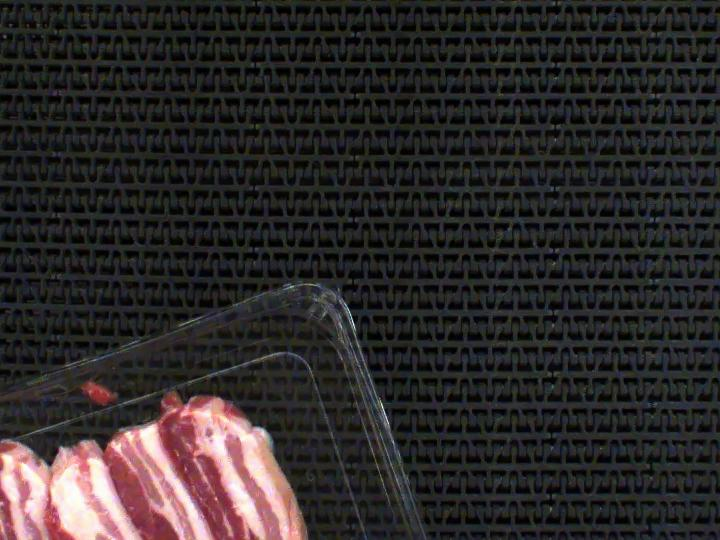loose-meat: (54, 369, 126, 416)
